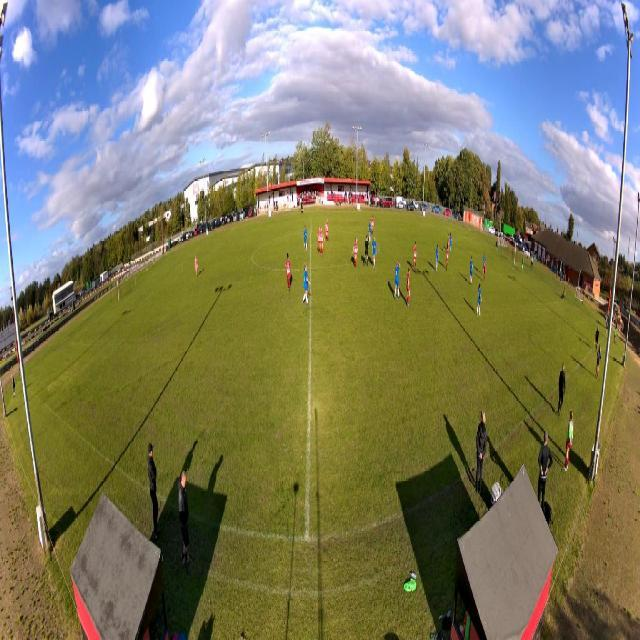ball: (512, 267, 513, 271)
player: (302, 264, 310, 306), (394, 260, 400, 300), (285, 253, 291, 292), (476, 282, 482, 318), (352, 237, 358, 267), (372, 235, 377, 269), (407, 267, 411, 306), (364, 236, 369, 267), (320, 228, 325, 256), (414, 240, 418, 271), (325, 219, 330, 243), (470, 255, 474, 285), (317, 226, 321, 255), (436, 245, 440, 273), (483, 259, 487, 285), (303, 226, 307, 251), (446, 246, 450, 271), (194, 256, 198, 277), (369, 219, 372, 243), (483, 252, 486, 276), (371, 215, 374, 235), (449, 232, 452, 252), (522, 255, 524, 274), (447, 233, 449, 251)
